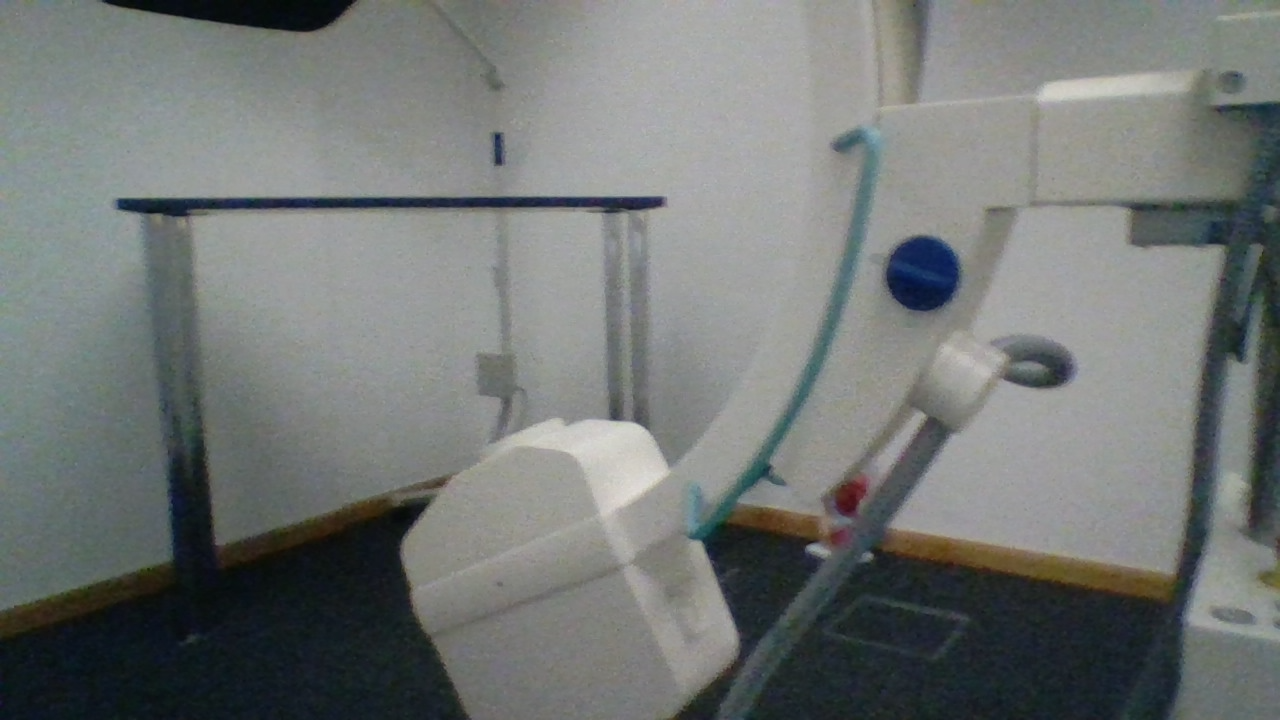carmDOWN: (399, 417, 672, 596)
carmLOCK: (881, 232, 963, 312)
